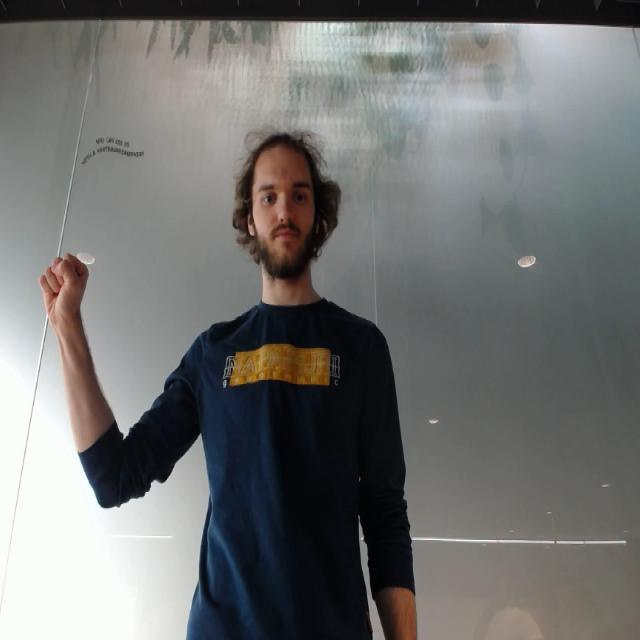stop: (38, 248, 94, 327)
